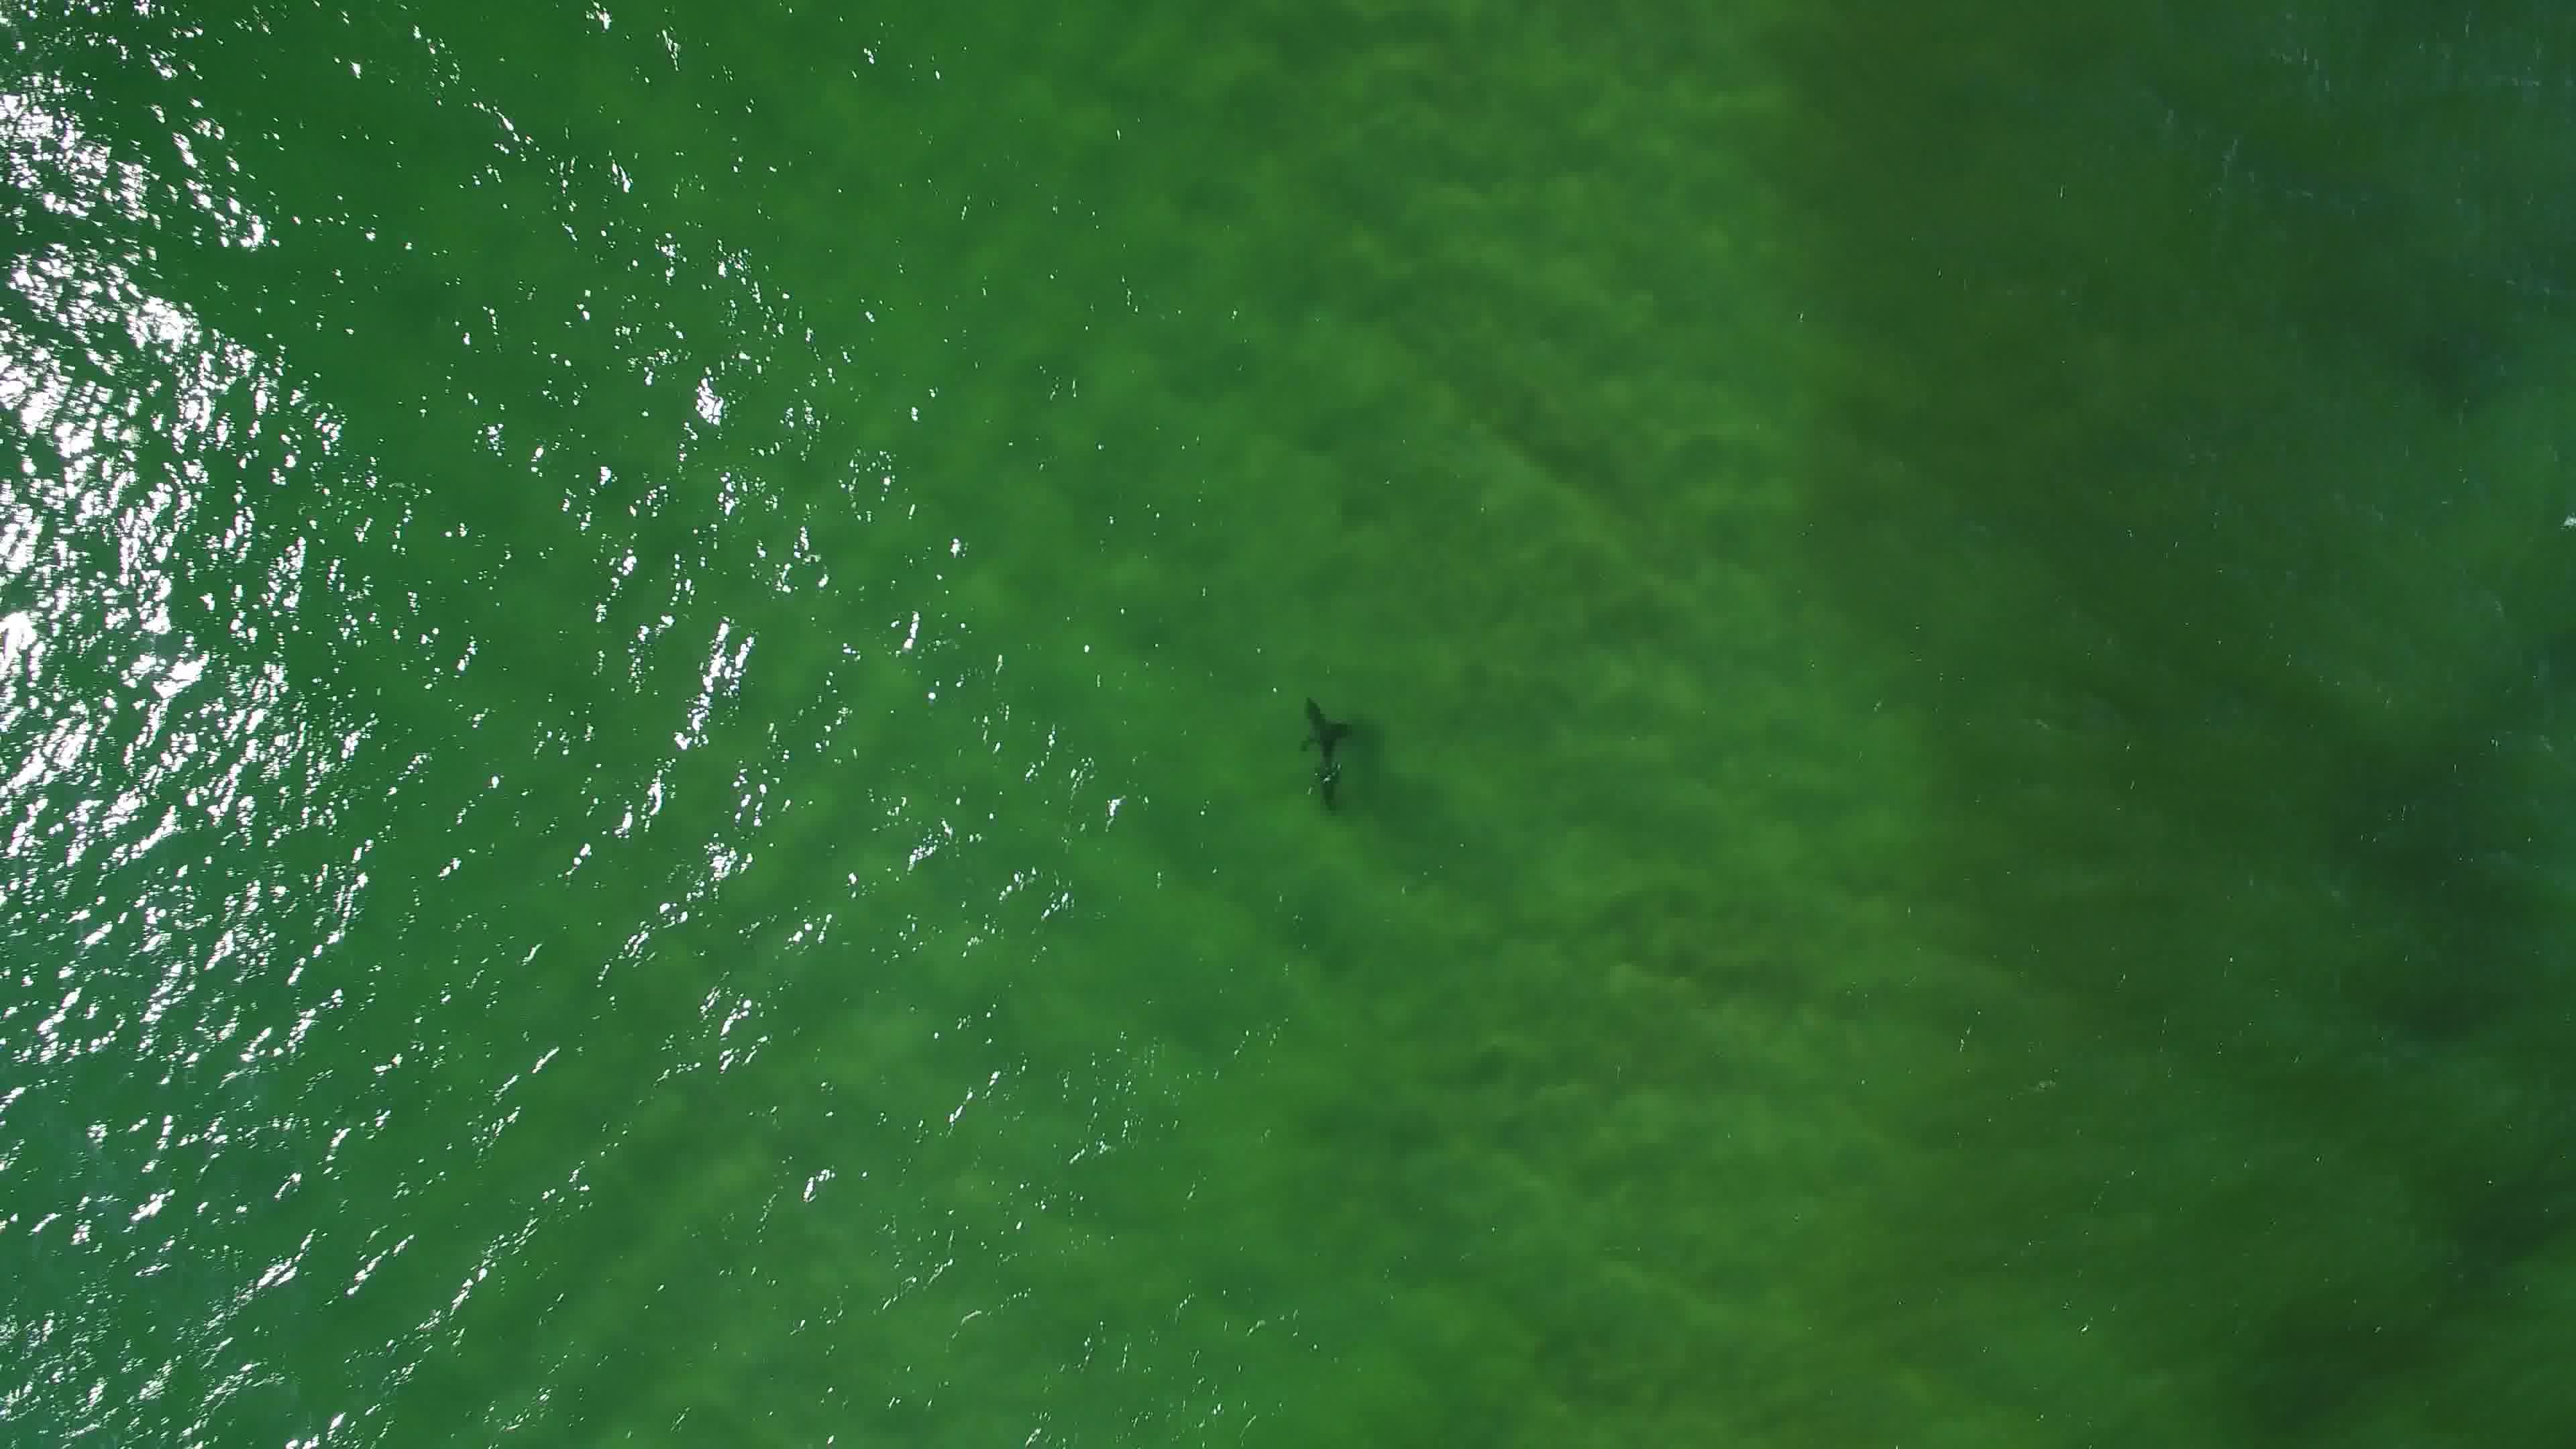shark: (1283, 690, 1362, 819)
